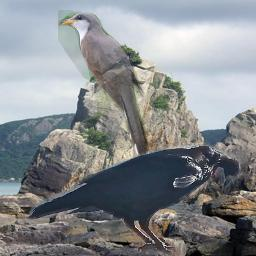Crow: (24, 143, 241, 256)
Cuckoo: (58, 10, 153, 160)
